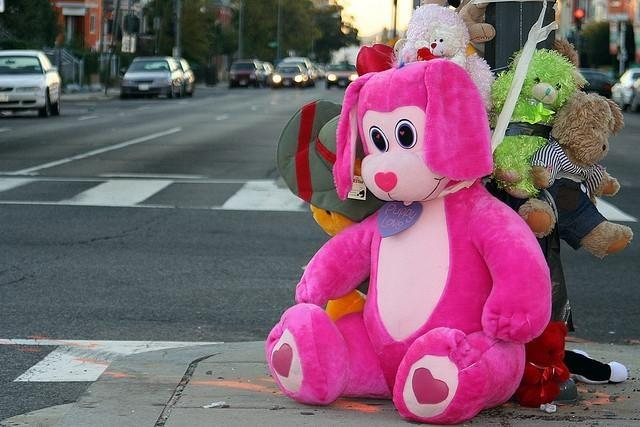car: (0, 50, 65, 117), (121, 56, 187, 100), (612, 68, 640, 110), (280, 55, 318, 84), (578, 70, 612, 100), (270, 62, 310, 87), (228, 59, 262, 88), (174, 56, 196, 98), (324, 65, 360, 90), (258, 60, 274, 86)
